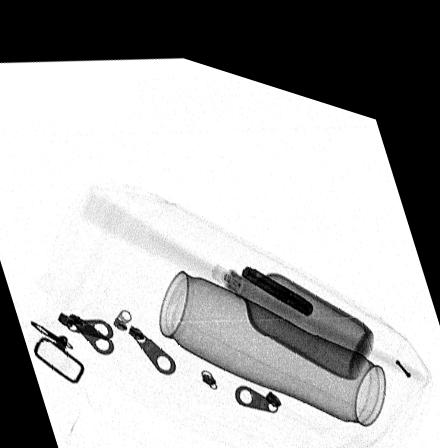Lighter: (241, 250, 314, 297)
